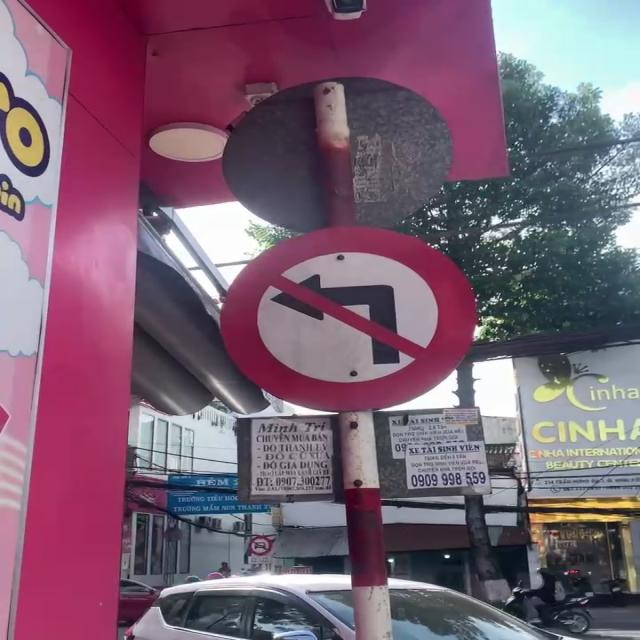Cam_Re_Trai: (217, 225, 477, 411)
